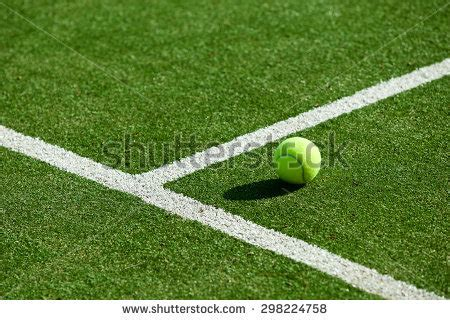tennis_ball: (275, 137, 321, 184)
